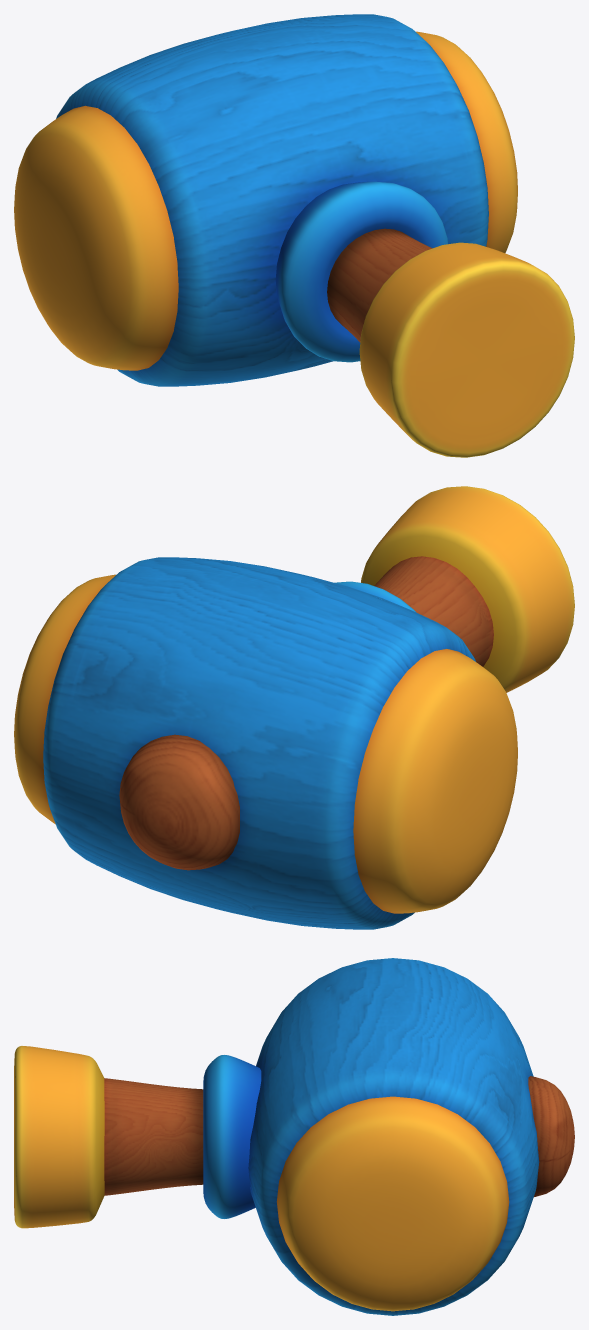
File: Hammer.fbx
3 renders of one model, top to bottom at view 1: azimuth 30°, elevation 25°; view 2: azimuth 150°, elevation 25°; view 3: azimuth 270°, elevation 25°, orthographic. The views are drawn at different scales.
Parts seen in each view (by area): view 1: Hammer; view 2: Hammer; view 3: Hammer.
Part boxes in pixels (x1,y1,x2,y2): Hammer: (14,14,574,457); Hammer: (14,486,574,929); Hammer: (14,958,574,1315).
Size of the model in its own units: 0.9605 by 0.683 by 1.29.
1 material, 1 textured.
